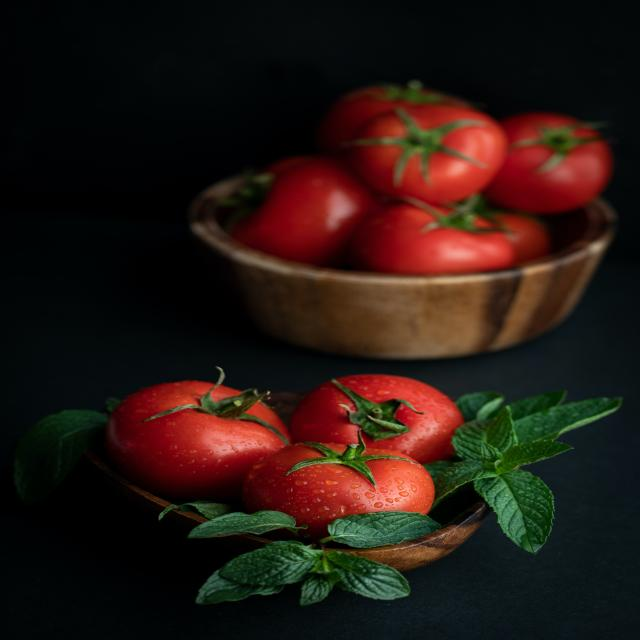Tomato: (118, 372, 308, 486), (289, 363, 479, 468), (250, 438, 446, 534)
